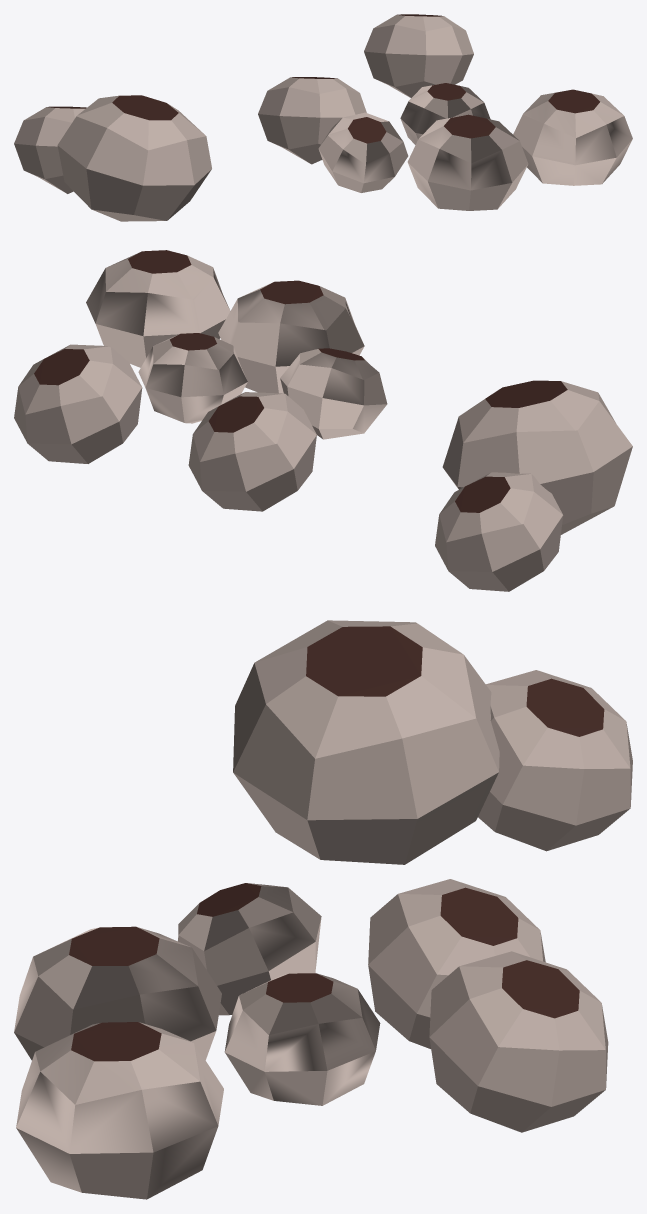
Rendered from M_shanhujiao06.FBX.
3 views of the same model, one above another, from view 1: azimuth 30°, elevation 25°; view 2: azimuth 150°, elevation 25°; view 3: azimuth 270°, elevation 25° (orthographic). The views are drawn at different scales.
Visible parts, largest first — view 1: M_shanhujiao06; view 2: M_shanhujiao06; view 3: M_shanhujiao06.
Part boxes in pixels (left/top/right/bottom): M_shanhujiao06: left=14, top=14, right=632, bottom=221; M_shanhujiao06: left=14, top=250, right=632, bottom=591; M_shanhujiao06: left=14, top=620, right=632, bottom=1199.
Bounding box in the file's own units: 1.91 × 0.4685 × 1.16.
